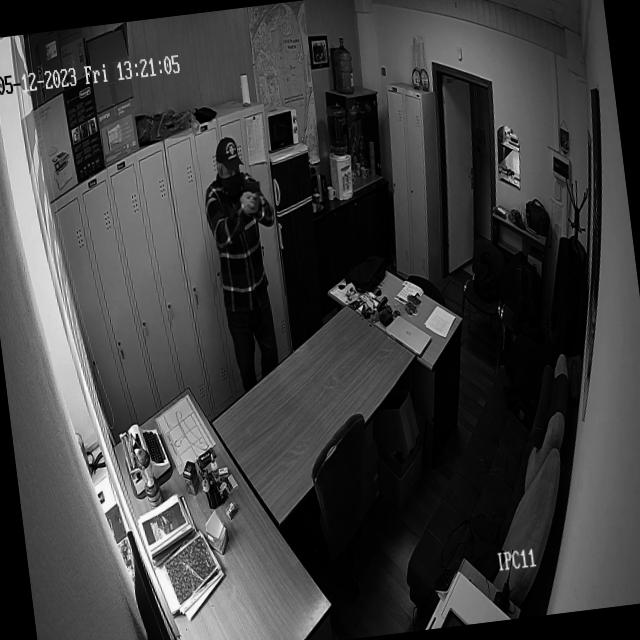gun: (241, 178, 262, 200)
person with a gun: (196, 131, 291, 366)
